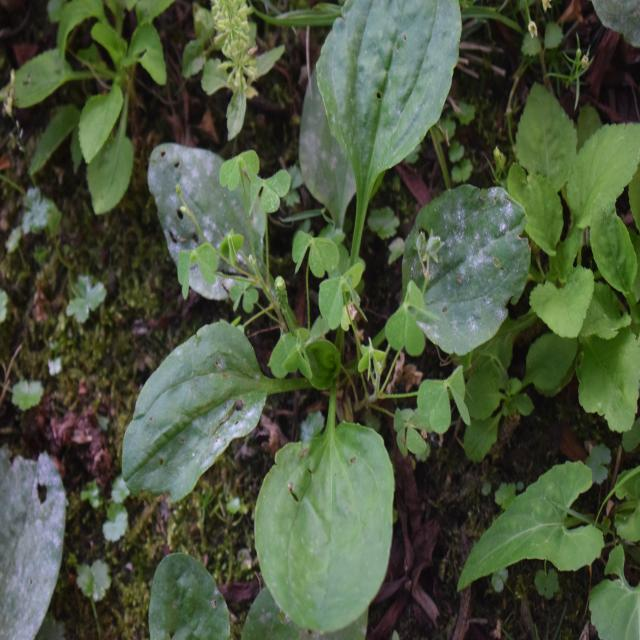plantain: (117, 2, 506, 577)
